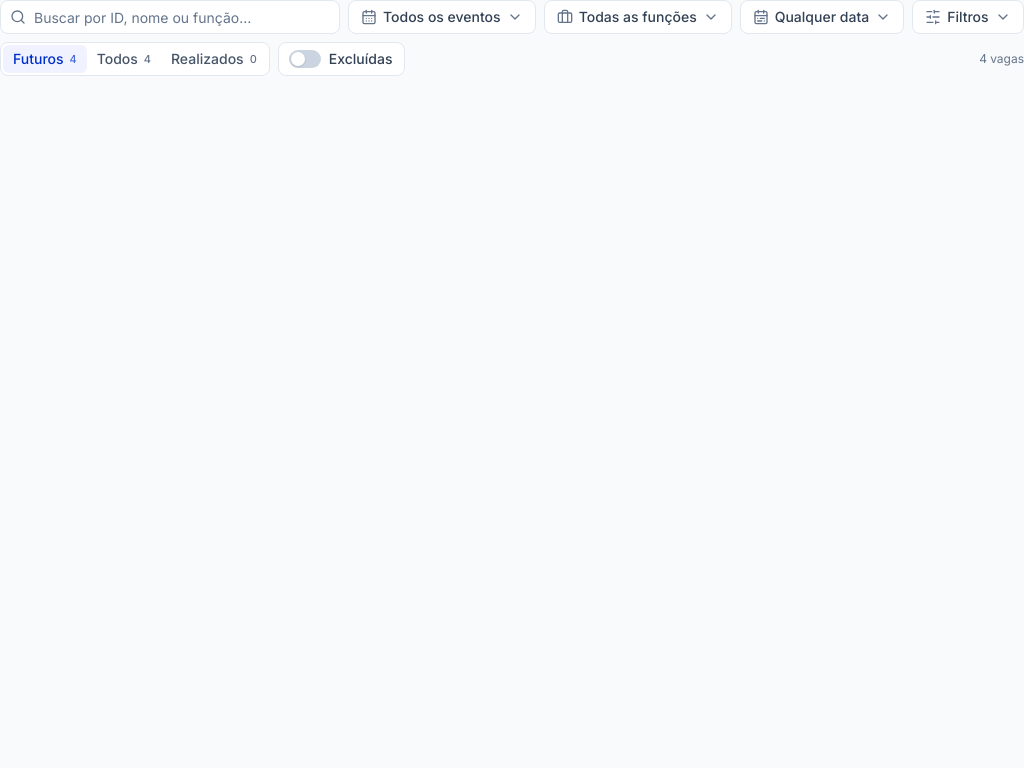
Fila da Escalação — grupo “Honorário” no painel de filtros › quem não lança não vê o grupo
Click the button with test id "button-filtros": point(968, 17) [912, 0, 1023, 34]
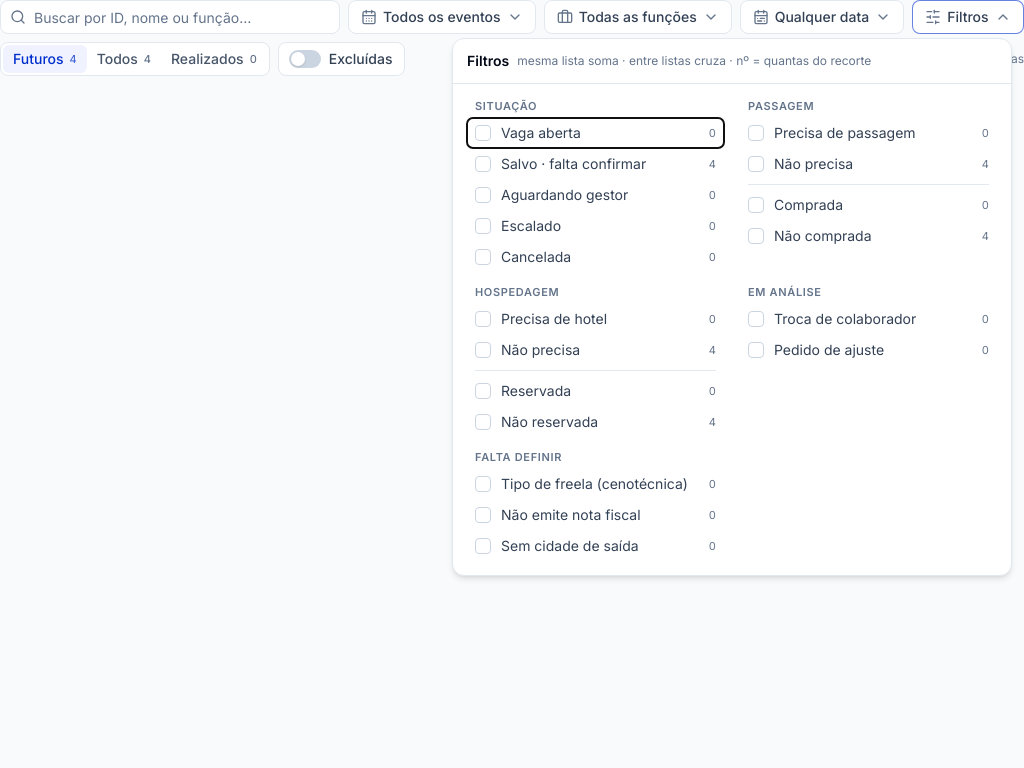
Expected: the element with test id "flag-grupo-sit" is shown, [467, 98, 724, 272]
